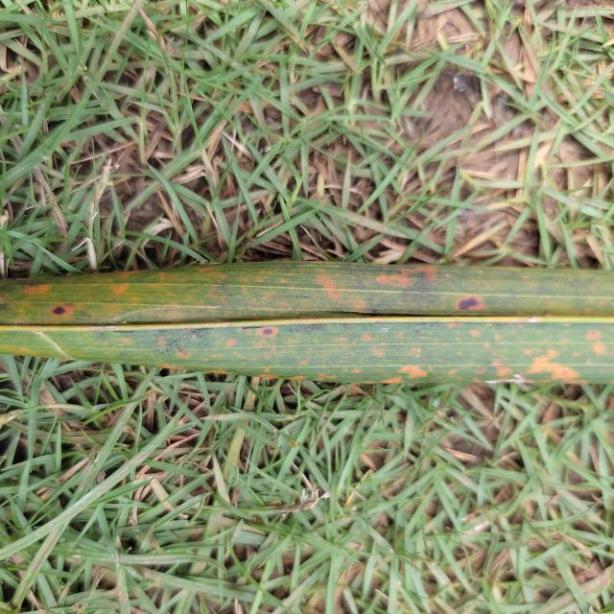Kalium: (1, 259, 614, 387)
